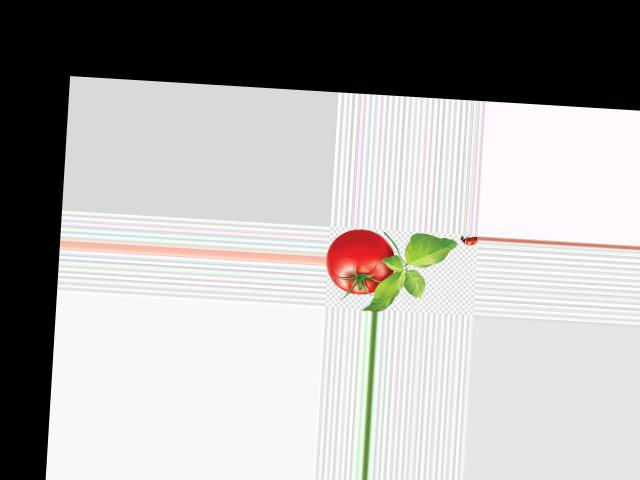tomato: (324, 227, 396, 296)
